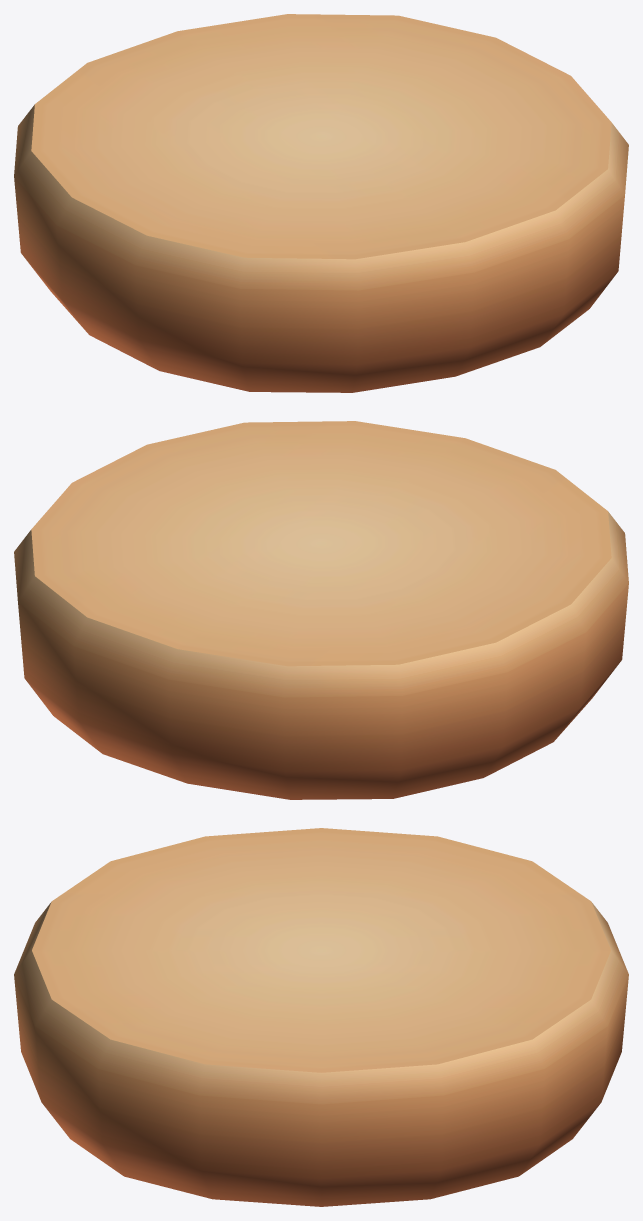
Rendered from kaykit-restaurant-bits-food-ingredient-bun-bottom.glb.
3 renders of one model, top to bottom at view 1: azimuth 30°, elevation 25°; view 2: azimuth 150°, elevation 25°; view 3: azimuth 270°, elevation 25°, orthographic.
Parts seen in each view (by area): view 1: food_ingredient_bun_bottom; view 2: food_ingredient_bun_bottom; view 3: food_ingredient_bun_bottom.
Part boxes in pixels (x1,y1,x2,y2): food_ingredient_bun_bottom: (14,14,628,392); food_ingredient_bun_bottom: (14,421,628,799); food_ingredient_bun_bottom: (14,828,628,1206).
Bounding box in the file's own units: 0.6938 × 0.2 × 0.6938.
Materials: 1 (1 with a texture image).
